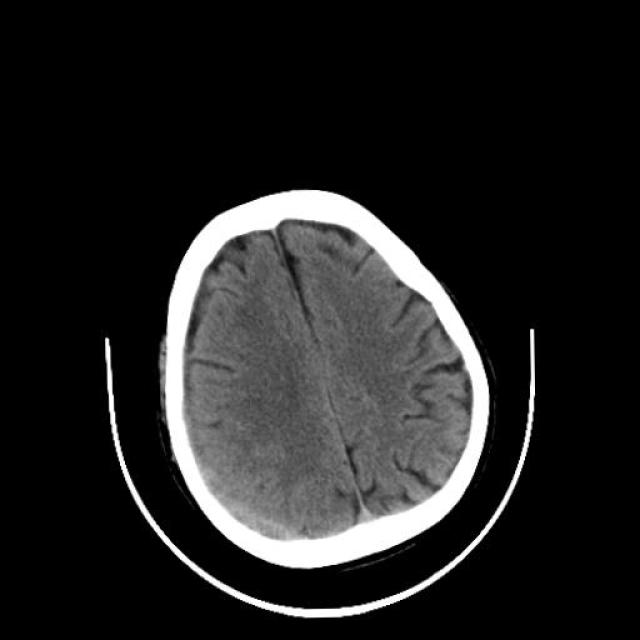Subdural: (176, 415, 310, 554)
